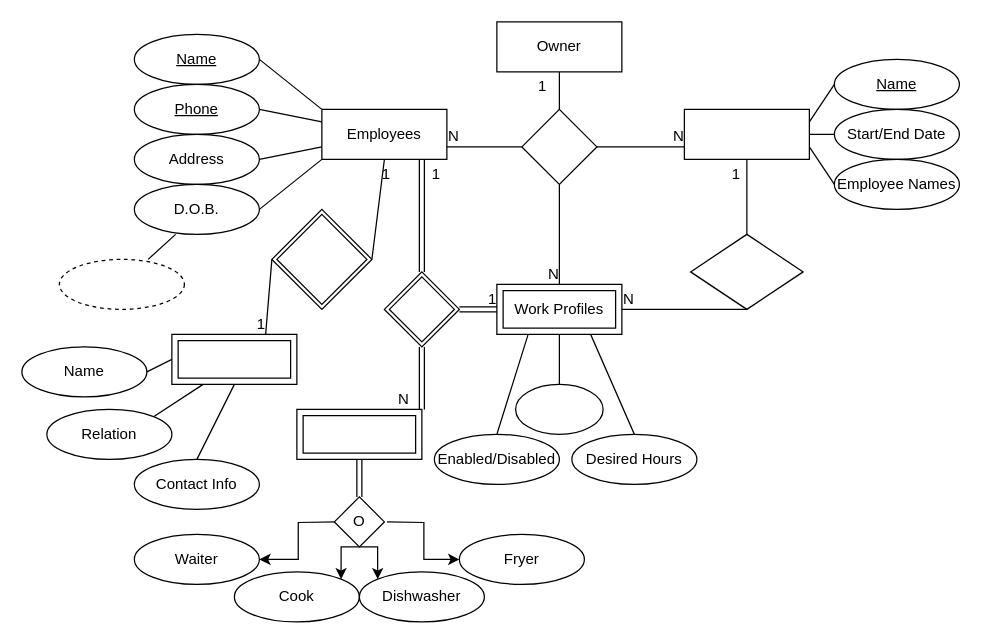
This 981x644 diagram has some shape labels left out. Each missing label, with the centre of its shape:
Age: the point at 121,283
Availibility: the point at 558,408
Edit: the point at 559,146
Emergency Contact: the point at 321,258
Have: the point at 421,309
Person: the point at 234,358
Populate: the point at 746,271
Roles: the point at 359,433
Schedules: the point at 746,133
